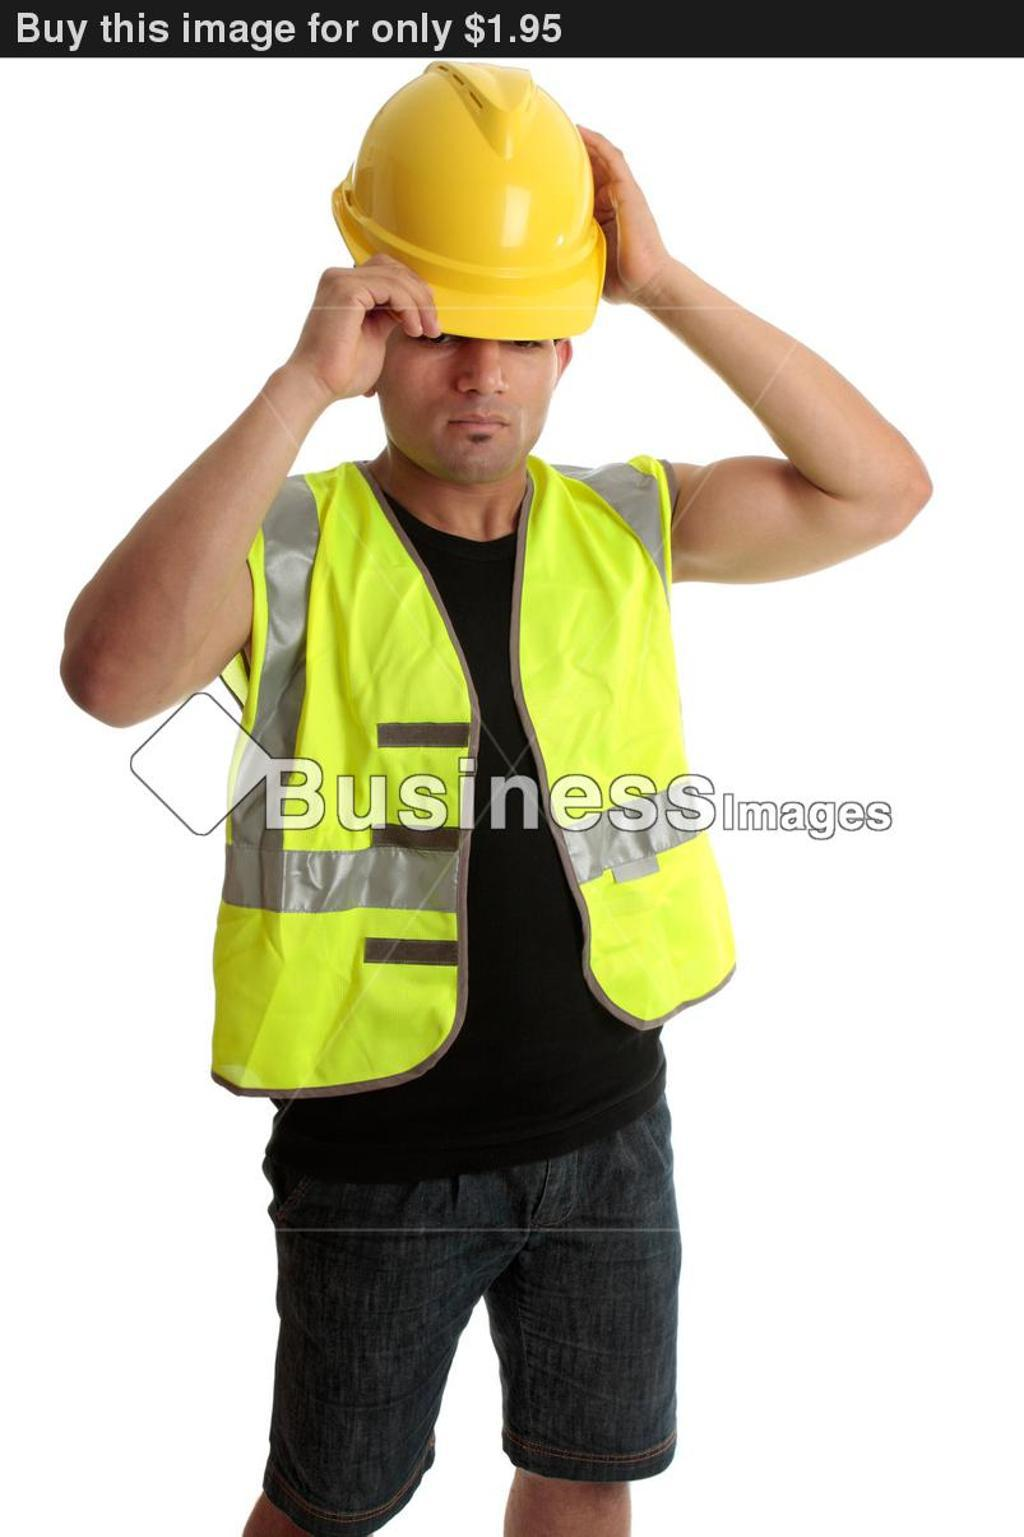face: (382, 235, 550, 472)
